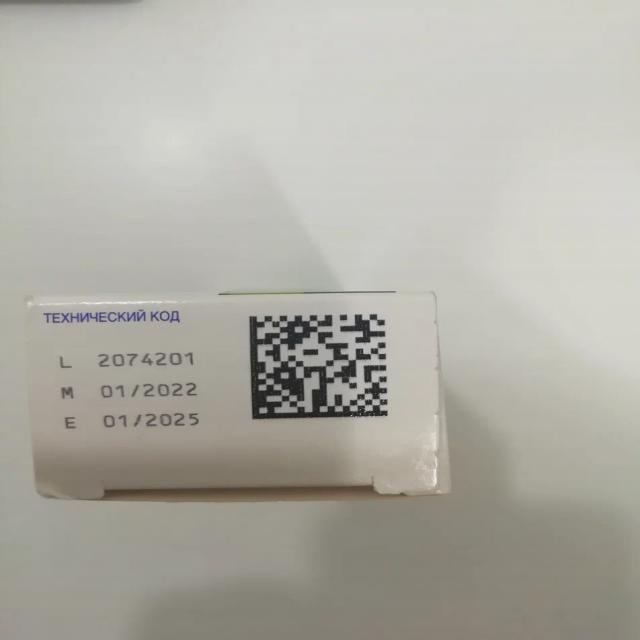datamatrix: (247, 312, 395, 423)
